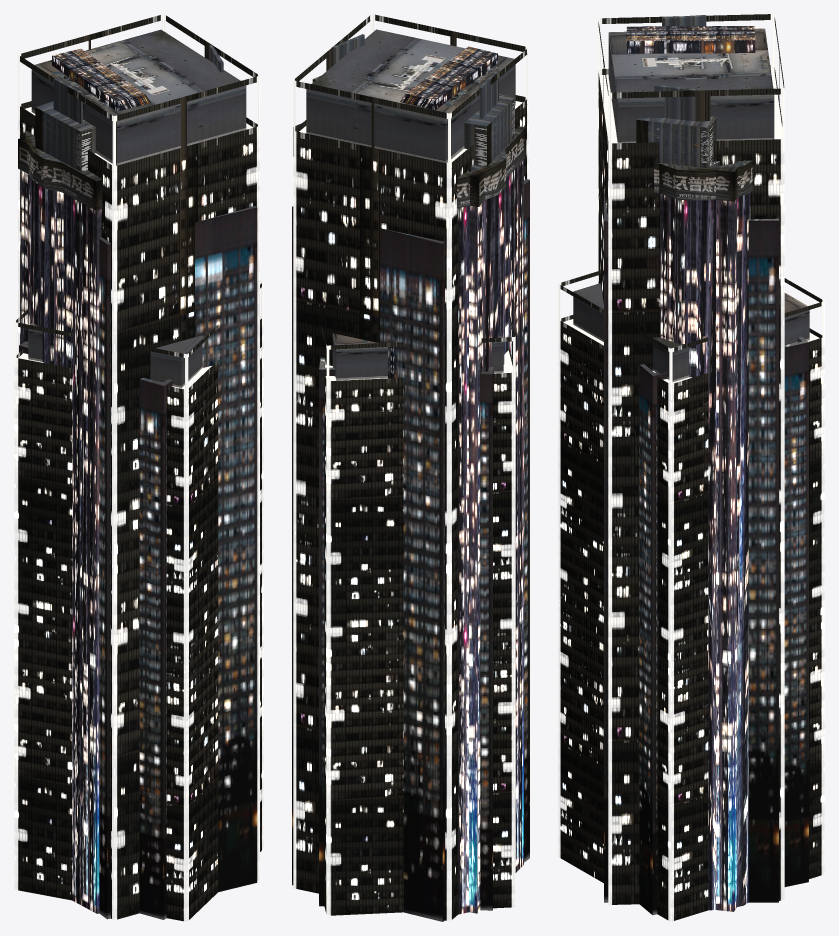
File: night_towers.glb
3 views of the same model, side by side, from view 1: azimuth 30°, elevation 25°; view 2: azimuth 150°, elevation 25°; view 3: azimuth 270°, elevation 25° (orthographic).
Parts seen in each view (by area): view 1: Cube, Cube_007, Cube_002, Cube_003, Cube_008, Cube_001, Cube_006; view 2: Cube_007, Cube, Cube_002, Cube_003, Cube_001, Cube_008, Cube_006; view 3: Cube, Cube_007, Cube_003, Cube_002, Cube_008, Cube_001, Cube_006.
Part boxes in pixels (x1,y1,x2,y2): Cube: (14,280,263,921); Cube_007: (18,14,259,920); Cube_002: (99,206,257,919); Cube_003: (18,78,102,913); Cube_008: (19,341,172,919); Cube_001: (25,44,223,366); Cube_006: (52,48,150,111); Cube_007: (293,14,528,921); Cube: (321,311,515,915); Cube_002: (292,179,529,921); Cube_003: (464,70,526,913); Cube_001: (293,34,506,914); Cube_008: (319,357,493,910); Cube_006: (400,46,497,110); Cube: (558,270,824,921); Cube_007: (598,14,784,904); Cube_003: (659,15,752,910); Cube_002: (604,191,778,902); Cube_008: (639,336,808,915); Cube_001: (636,85,741,911); Cube_006: (626,26,755,53).
Size of the model in its own units: 2.38 by 8 by 2.38.
7 materials, 7 textured.
